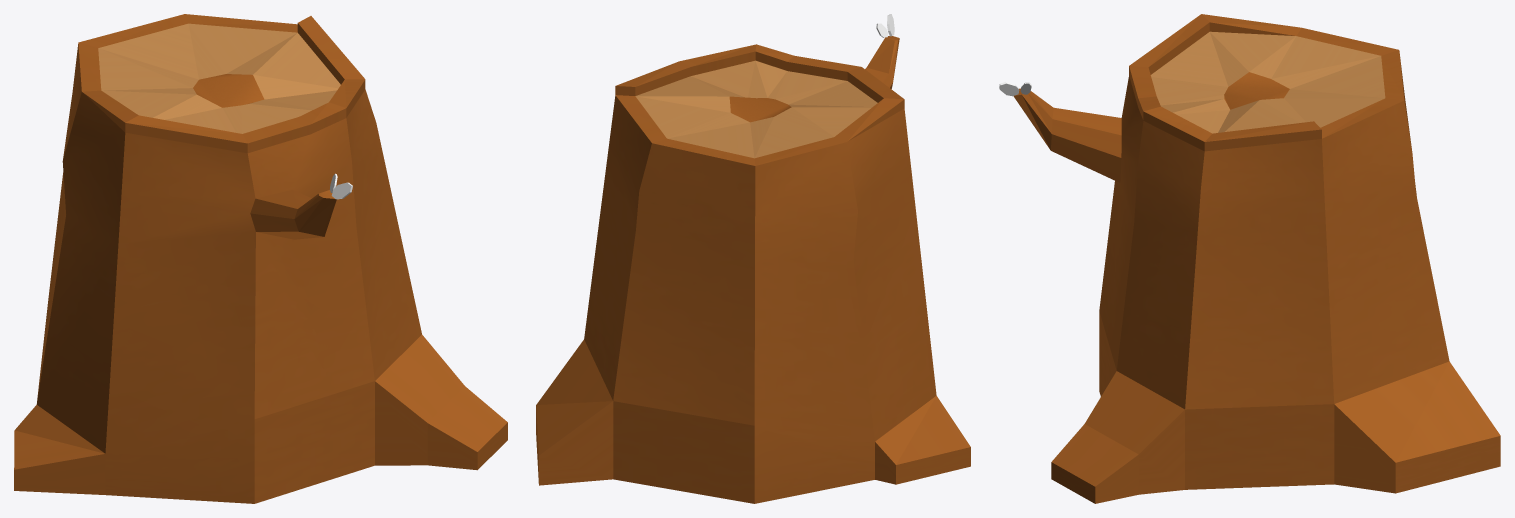
Rendered from tree.fbx.
3 renders of one model, left to right at view 1: azimuth 30°, elevation 25°; view 2: azimuth 150°, elevation 25°; view 3: azimuth 270°, elevation 25°, orthographic. The views are drawn at different scales.
Visible parts, largest first — view 1: Cylinder001; view 2: Cylinder001; view 3: Cylinder001.
Part boxes in pixels (x1=…): Cylinder001: x1=14, y1=14, x2=507, y2=503; Cylinder001: x1=536, y1=14, x2=970, y2=503; Cylinder001: x1=999, y1=14, x2=1500, y2=503.
Size of the model in its own units: 13.53 by 11.14 by 14.79.
